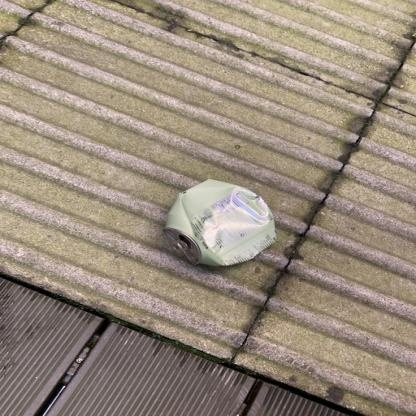trash: (164, 179, 275, 265)
